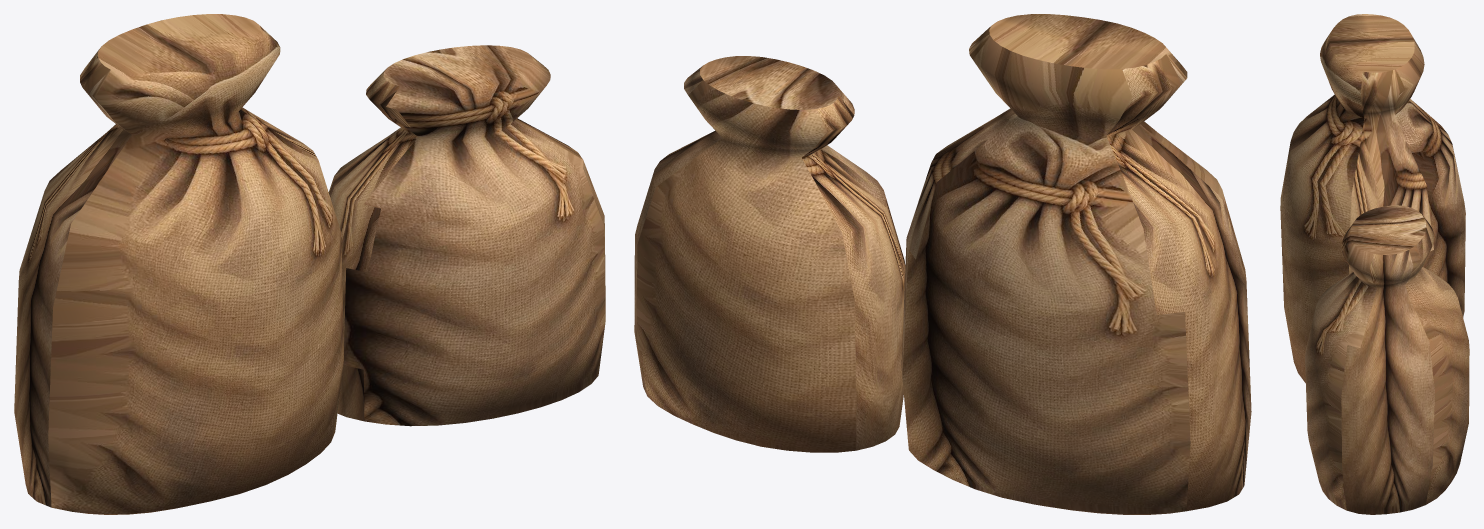
Rendered from grain-sacks.glb.
3 renders of one model, left to right at view 1: azimuth 30°, elevation 25°; view 2: azimuth 150°, elevation 25°; view 3: azimuth 270°, elevation 25°, orthographic. The views are drawn at different scales.
Parts seen in each view (by area): view 1: grain-sacks; view 2: grain-sacks; view 3: grain-sacks.
Part boxes in pixels (bbox=[...]): grain-sacks: bbox=[14, 14, 605, 514]; grain-sacks: bbox=[634, 14, 1251, 514]; grain-sacks: bbox=[1280, 14, 1469, 514].
Bounding box in the file's own units: 0.9305 × 0.66 × 0.3477.
Materials: 1 (1 with a texture image).
